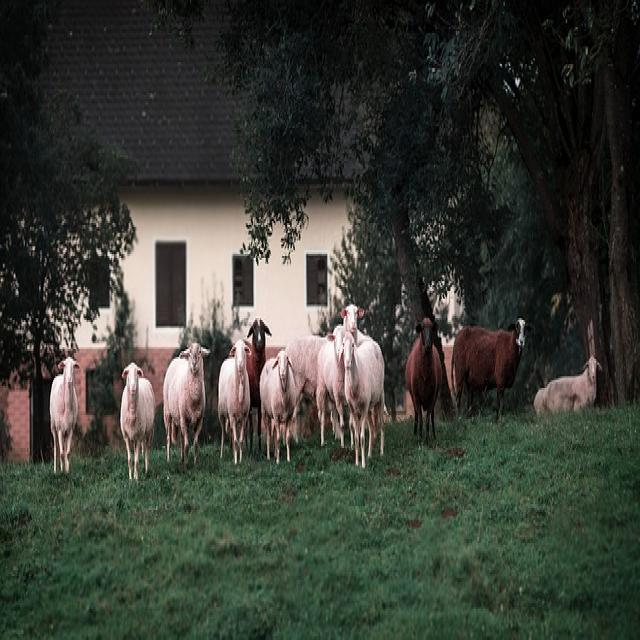goat: (337, 330, 385, 469), (447, 324, 523, 411), (163, 343, 207, 467), (217, 337, 259, 465), (259, 351, 303, 465), (118, 363, 159, 483), (405, 318, 444, 442), (48, 359, 89, 473), (534, 359, 598, 415)
